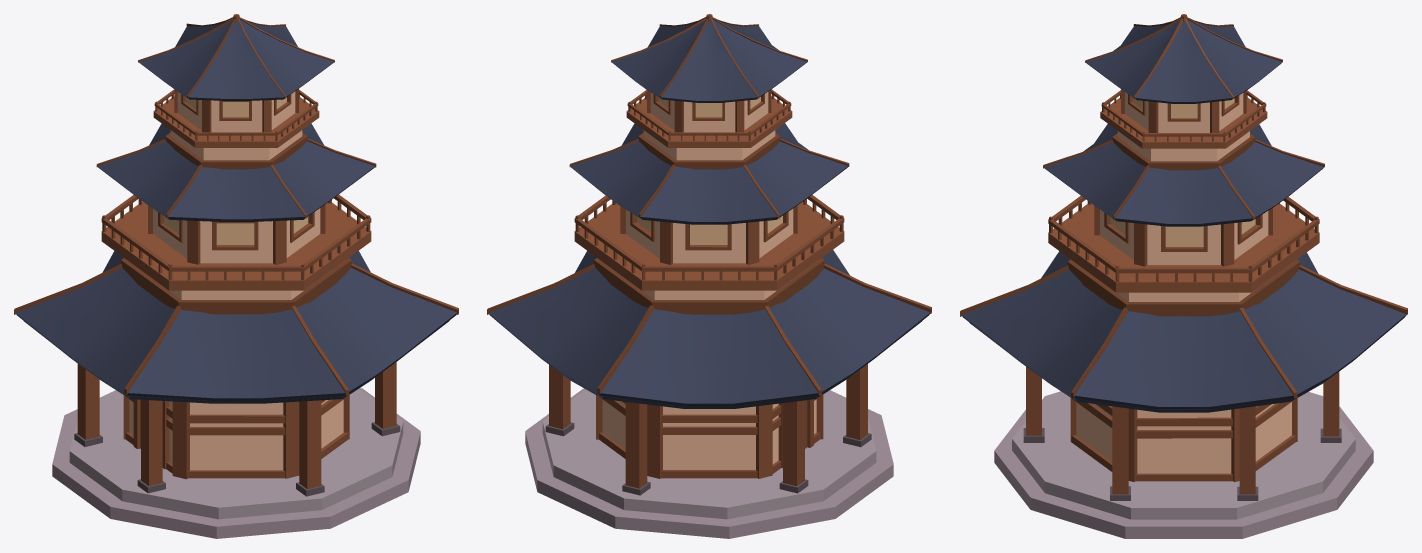
Rendered from houme013_1.fbx.
3 renders of one model, left to right at view 1: azimuth 30°, elevation 25°; view 2: azimuth 150°, elevation 25°; view 3: azimuth 270°, elevation 25°, orthographic.
Visible parts, largest first — view 1: houme_13_1, foundation_13_1_1; view 2: houme_13_1, foundation_13_1_1; view 3: houme_13_1, foundation_13_1_1.
Part boxes in pixels (left/top/right/bottom): houme_13_1: left=14, top=14, right=458, bottom=496; foundation_13_1_1: left=52, top=388, right=420, bottom=538; houme_13_1: left=487, top=14, right=931, bottom=495; foundation_13_1_1: left=525, top=388, right=893, bottom=538; houme_13_1: left=960, top=14, right=1407, bottom=500; foundation_13_1_1: left=994, top=391, right=1373, bottom=538.
Bounding box in the file's own units: 2369 × 3001 × 2723.
